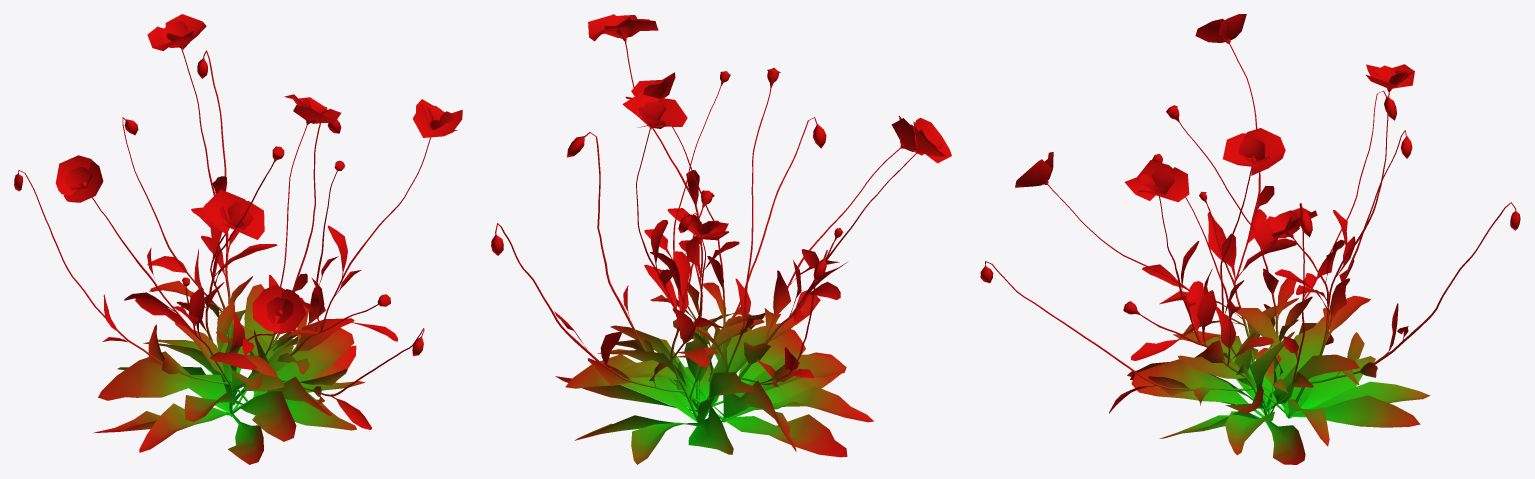
The model's file is Field Poppy_LOD1_Var3_vmcobd0ja.fbx.
3 views of the same model, side by side, from view 1: azimuth 30°, elevation 25°; view 2: azimuth 150°, elevation 25°; view 3: azimuth 270°, elevation 25° (orthographic). The views are drawn at different scales.
Visible parts, largest first — view 1: _4avw_Var3_LOD1; view 2: _4avw_Var3_LOD1; view 3: _4avw_Var3_LOD1.
Part boxes in pixels (box(x1,y1,x2,y2)): _4avw_Var3_LOD1: box(14, 14, 462, 464); _4avw_Var3_LOD1: box(491, 14, 951, 464); _4avw_Var3_LOD1: box(980, 14, 1520, 464).
Bounding box in the file's own units: 78.22 × 69.34 × 97.05.
